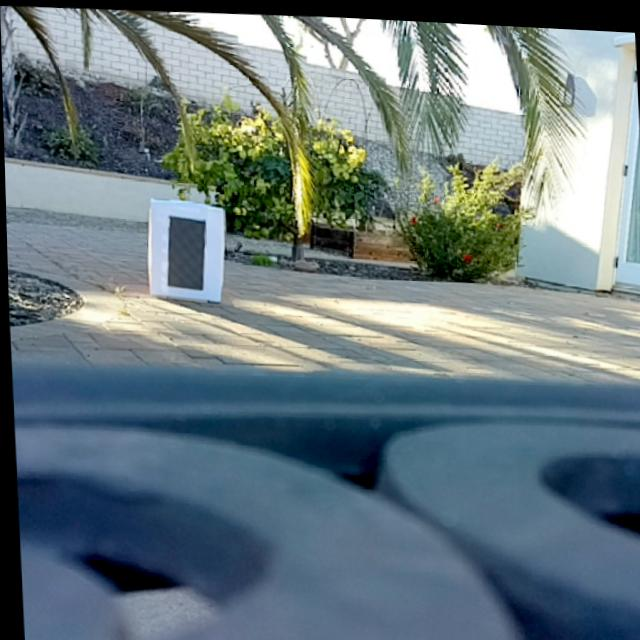led: (167, 212, 208, 294)
